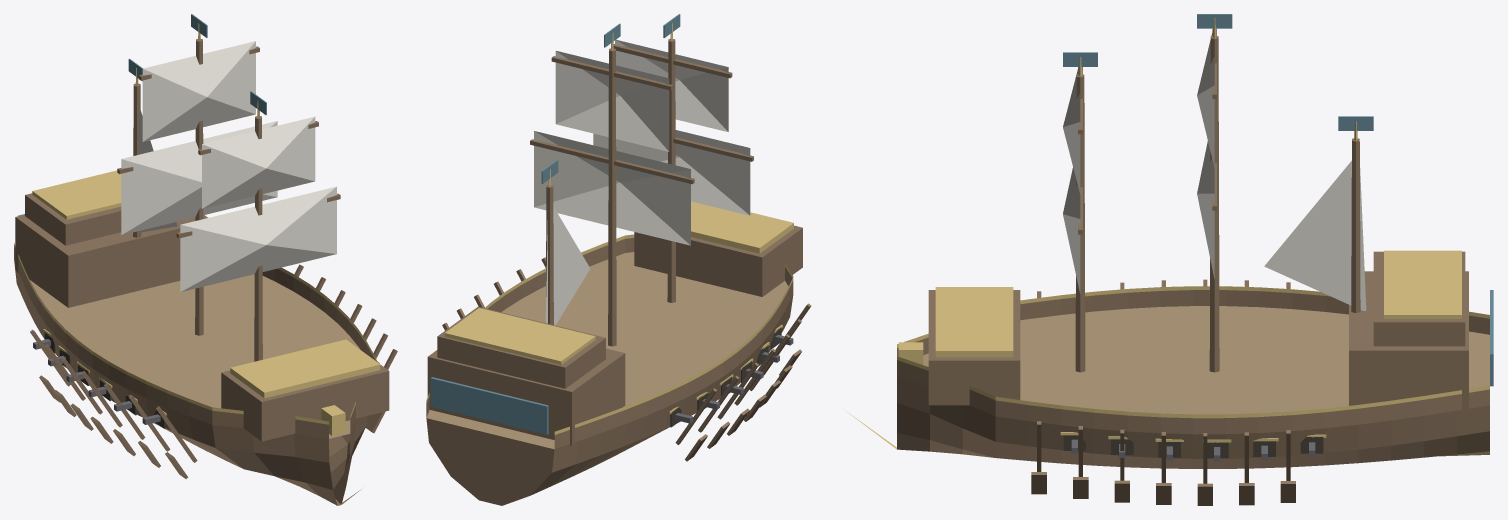
The model's file is VenetianGalleass.fbx.
3 views of the same model, side by side, from view 1: azimuth 30°, elevation 25°; view 2: azimuth 150°, elevation 25°; view 3: azimuth 270°, elevation 25° (orthographic). The views are drawn at different scales.
Visible parts, largest first — view 1: VenetianGalleass, Oar_R_6, Oar_R_3, Oar_R_2, Oar_R_4, Oar_R_1, Oar_R_5; view 2: VenetianGalleass, Oar_R_0, Oar_R_1, Oar_R_3, Oar_R_2; view 3: VenetianGalleass.
Part boxes in pixels (x1=…): VenetianGalleass: x1=14, y1=14, x2=389, y2=505; Oar_R_6: x1=156, y1=406, x2=197, y2=478; Oar_R_3: x1=81, y1=371, x2=122, y2=443; Oar_R_2: x1=61, y1=358, x2=102, y2=430; Oar_R_4: x1=104, y1=383, x2=145, y2=455; Oar_R_1: x1=44, y1=344, x2=85, y2=416; Oar_R_5: x1=128, y1=395, x2=170, y2=467; VenetianGalleass: x1=426, y1=14, x2=802, y2=505; Oar_R_0: x1=675, y1=388, x2=717, y2=461; Oar_R_1: x1=698, y1=376, x2=739, y2=448; Oar_R_3: x1=734, y1=348, x2=775, y2=421; Oar_R_2: x1=717, y1=362, x2=758, y2=435; VenetianGalleass: x1=846, y1=14, x2=1493, y2=468.
Bounding box in the file's own units: 10.48 × 13.57 × 18.5.
